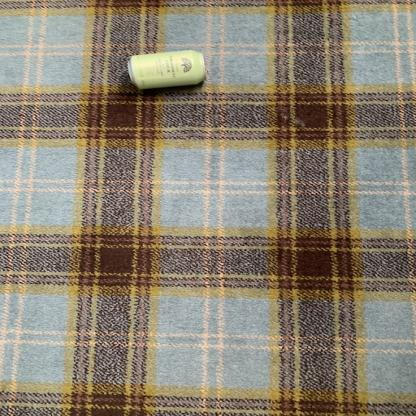trash: (125, 50, 207, 92)
